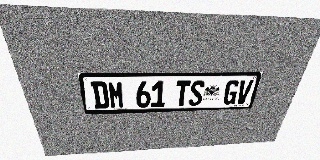1: (151, 81, 166, 107)
6: (136, 81, 151, 108)
D: (91, 81, 110, 109)
G: (222, 80, 241, 105)
M: (107, 81, 125, 108)
S: (188, 80, 205, 106)
T: (174, 80, 191, 106)
V: (235, 80, 254, 104)
